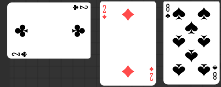2C: (72, 4, 89, 12)
2D: (149, 66, 155, 83)
AC: (11, 51, 29, 58)
